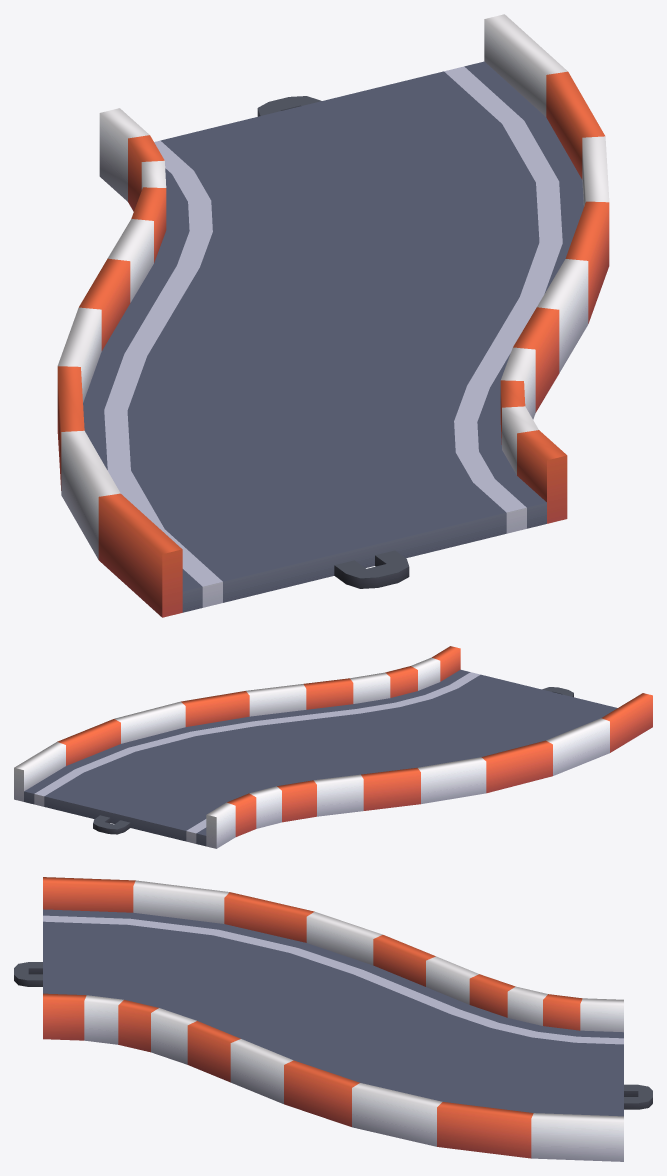
Rendered from track-road-wide-curve.glb.
3 views of the same model, one above another, from view 1: azimuth 30°, elevation 25°; view 2: azimuth 150°, elevation 25°; view 3: azimuth 270°, elevation 25° (orthographic). The views are drawn at different scales.
Visible parts, largest first — view 1: track-road-wide-curve; view 2: track-road-wide-curve; view 3: track-road-wide-curve.
Part boxes in pixels (x1,y1,x2,y2): track-road-wide-curve: (57,14,609,617); track-road-wide-curve: (14,646,652,848); track-road-wide-curve: (14,877,652,1161).
Bounding box in the file's own units: 4 × 0.2997 × 4.4.
1 material, 1 textured.
